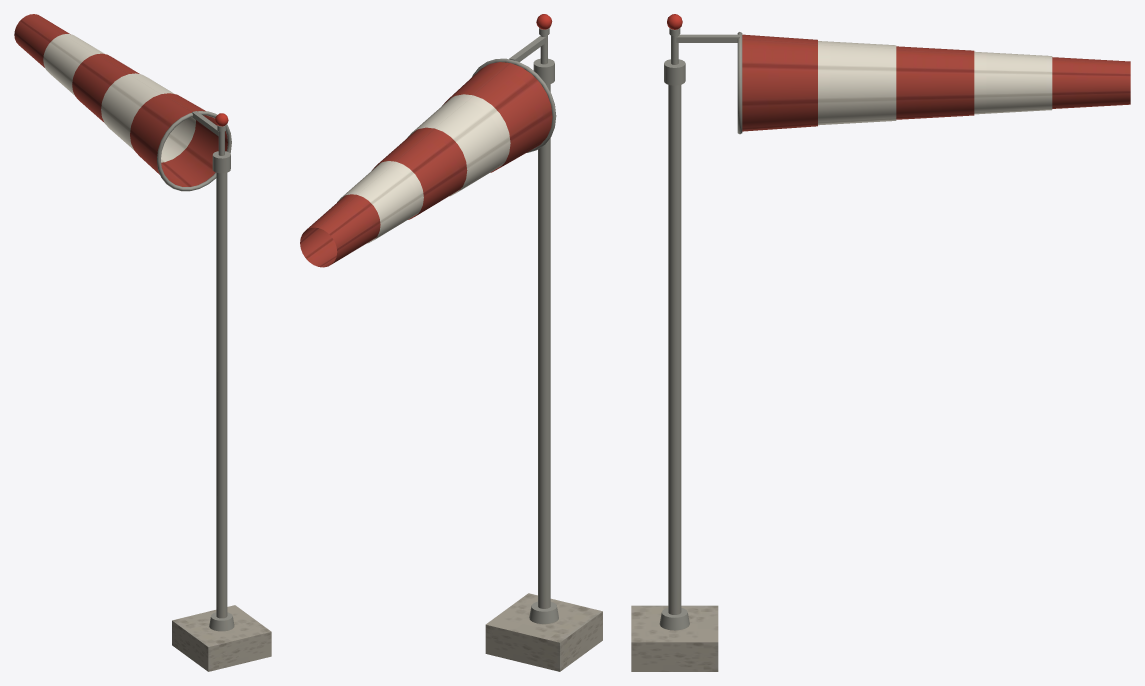
The model's file is manche.glb.
3 views of the same model, side by side, from view 1: azimuth 30°, elevation 25°; view 2: azimuth 150°, elevation 25°; view 3: azimuth 270°, elevation 25° (orthographic). The views are drawn at different scales.
Parts seen in each view (by area): view 1: mat_manche, manche_troncon_1, manche_troncon_2, manche_troncon_3, manche_troncon_4, manche_troncon_5, manche, manche_cerceau; view 2: mat_manche, manche_troncon_1, manche_troncon_2, manche_troncon_3, manche_troncon_5, manche_troncon_4, manche, manche_cerceau; view 3: mat_manche, manche_troncon_1, manche_troncon_2, manche_troncon_3, manche_troncon_4, manche_troncon_5, manche.
Boxes of the visible parts, x1,y1,x2,y2 form: mat_manche: (172, 172, 271, 671); manche_troncon_1: (130, 93, 227, 186); manche_troncon_2: (101, 73, 195, 162); manche_troncon_3: (72, 53, 139, 122); manche_troncon_4: (43, 34, 104, 95); manche_troncon_5: (14, 14, 70, 67); manche: (192, 111, 230, 173); manche_cerceau: (157, 111, 231, 191); mat_manche: (485, 84, 602, 671); manche_troncon_1: (442, 62, 552, 172); manche_troncon_2: (406, 94, 510, 196); manche_troncon_3: (372, 127, 467, 219); manche_troncon_5: (300, 194, 380, 267); manche_troncon_4: (337, 161, 423, 243); manche: (509, 14, 554, 84); manche_cerceau: (472, 58, 556, 152); mat_manche: (631, 85, 718, 671); manche_troncon_1: (742, 34, 817, 131); manche_troncon_2: (818, 41, 896, 125); manche_troncon_3: (896, 46, 974, 119); manche_troncon_4: (974, 51, 1052, 114); manche_troncon_5: (1052, 57, 1130, 108); manche: (664, 14, 739, 85).
Size of the model in its own units: 0.95 by 6.5 by 4.6.
5 materials, 5 textured.
